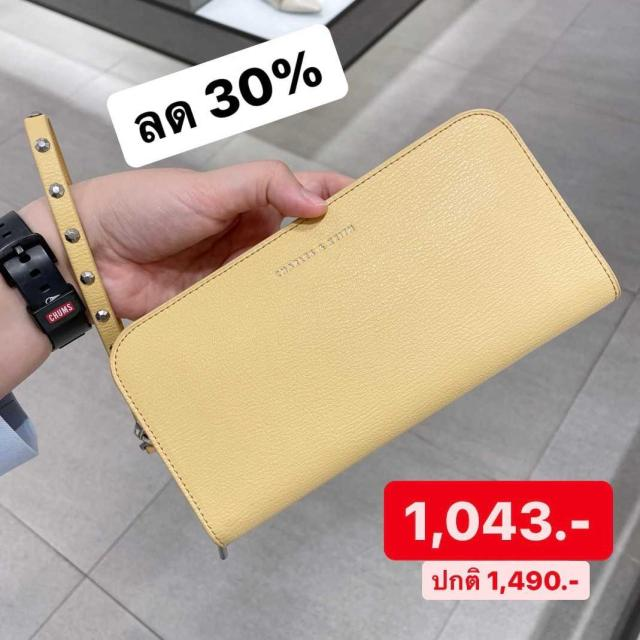Handbag: (102, 110, 630, 556)
